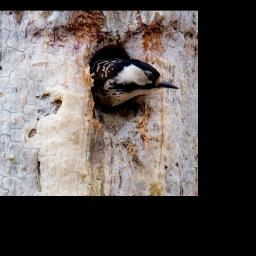Woodpecker: (92, 54, 179, 109)
